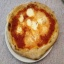pizza: (6, 6, 54, 58)
